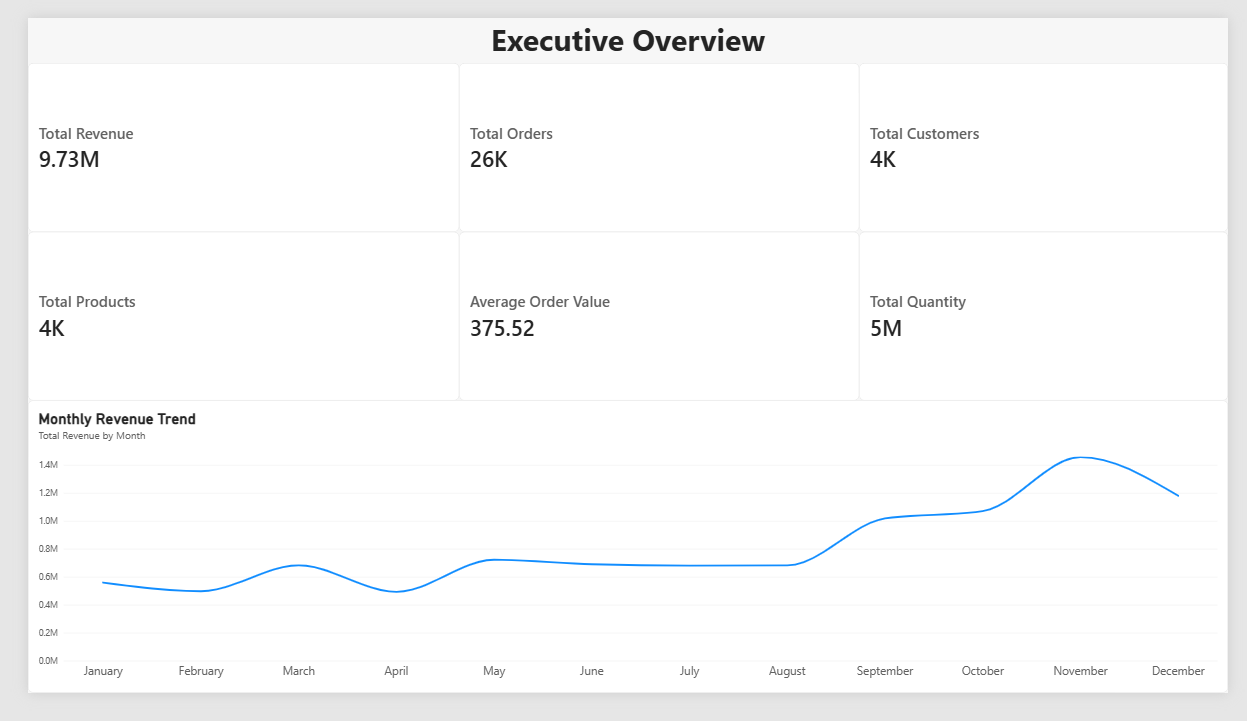

What the dashboard file says about the page in this screenshot:
{"tool":"powerbi","page":{"name":"Executive Overview","canvas":[1920,1080],"ordinal":0},"visuals":[{"type":"cardVisual","fields":{"Data":["sales.Total Revenue"]},"box":[0,72.5,690,270],"z":0},{"type":"cardVisual","fields":{"Data":["sales.Total Orders"]},"box":[690,72.5,640,270],"z":1000},{"type":"cardVisual","fields":{"Data":["sales.Total Customers"]},"box":[1330,72.5,590,270],"z":2000},{"type":"cardVisual","fields":{"Data":["sales.Total Products"]},"box":[0,342.5,690,270],"z":3000},{"type":"cardVisual","fields":{"Data":["sales.Total Quantity"]},"box":[1330,342.5,590,270],"z":4000},{"type":"cardVisual","fields":{"Data":["sales.Average Order Value"]},"box":[690,342.5,640,270],"z":5000},{"type":"lineChart","title":"Monthly Revenue Trend","fields":{"Category":["sales.InvoiceDate.Variation.Date Hierarchy.Month"],"Y":["sales.Total Revenue"]},"box":[0,612.5,1920,467.5],"z":6000},{"type":"textbox","box":[0,0,1920,72.5],"z":6001}]}

Visuals, with their boxes in screenshot pixels (x1, y1, x2, y2), scaled from the page's 1920x1080 canvas onto the 1247x721 screenshot:
cardVisual - sales.Total Revenue: bbox(0, 48, 448, 229)
cardVisual - sales.Total Orders: bbox(448, 48, 864, 229)
cardVisual - sales.Total Customers: bbox(864, 48, 1246, 229)
cardVisual - sales.Total Products: bbox(0, 229, 448, 409)
cardVisual - sales.Total Quantity: bbox(864, 229, 1246, 409)
cardVisual - sales.Average Order Value: bbox(448, 229, 864, 409)
"Monthly Revenue Trend" lineChart: bbox(0, 409, 1246, 720)
textbox: bbox(0, 0, 1246, 48)
